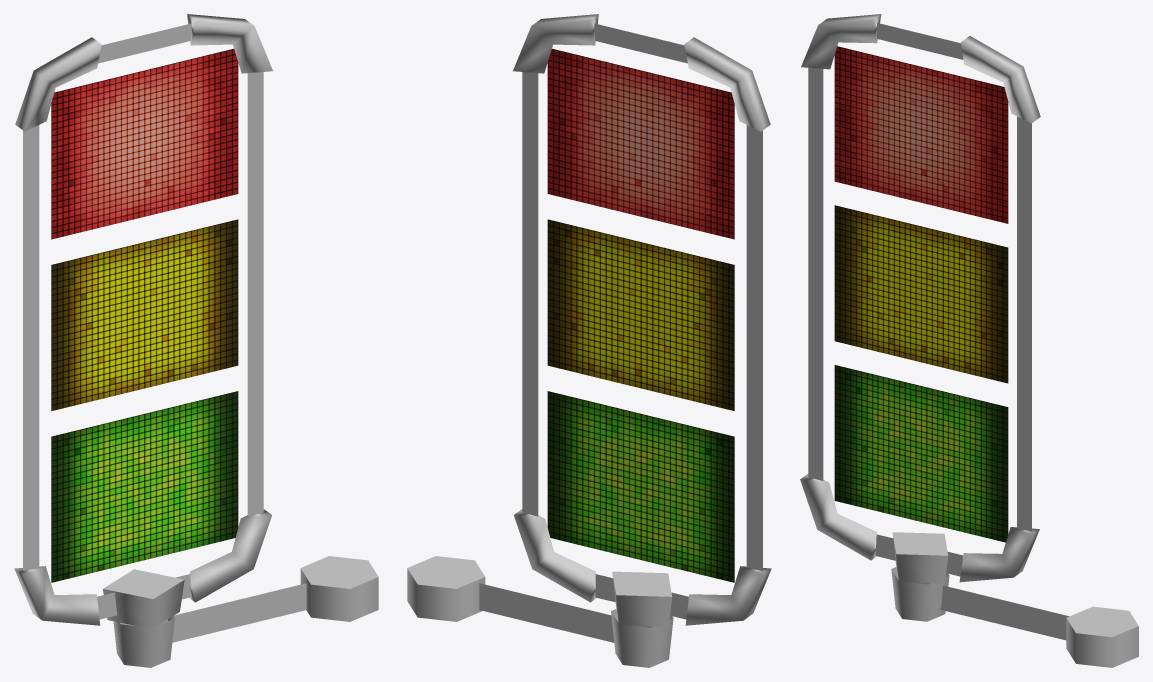
File: Streetlight1_LOD2.fbx
3 views of the same model, side by side, from view 1: azimuth 30°, elevation 25°; view 2: azimuth 150°, elevation 25°; view 3: azimuth 330°, elevation 25° (orthographic). The views are drawn at different scales.
Visible parts, largest first — view 1: polySurface985; view 2: polySurface985; view 3: polySurface985.
Boxes of the visible parts, x1=… form: polySurface985: x1=14, y1=14, x2=378, y2=667; polySurface985: x1=407, y1=14, x2=771, y2=667; polySurface985: x1=800, y1=14, x2=1138, y2=667.
Size of the model in its own units: 0.4544 by 0.7689 by 0.0868.
